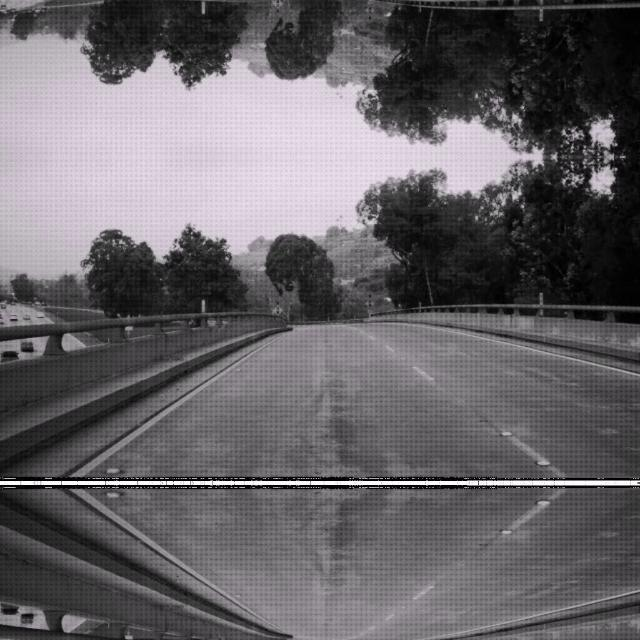signalAhead: (364, 296, 376, 308), (364, 4, 376, 16), (271, 304, 283, 314), (271, 0, 284, 9)
